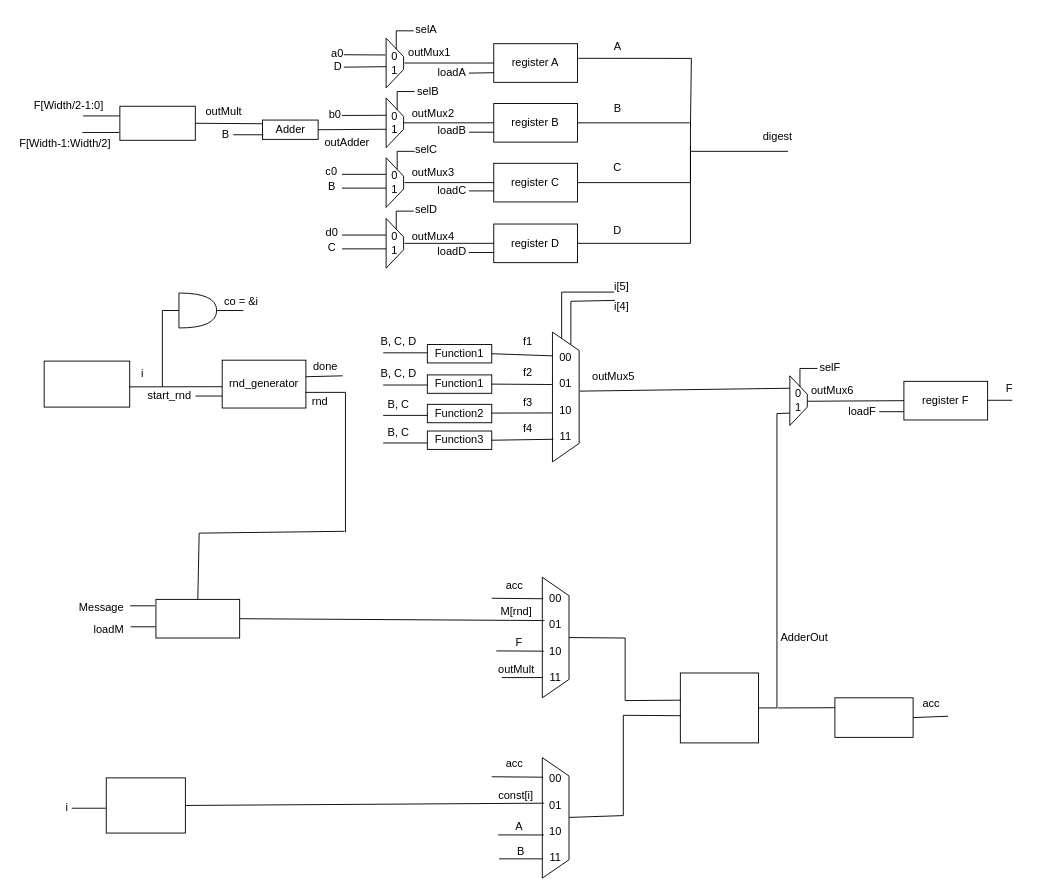
Image size: 1047x894. Some labels were removed from this diagram. The shapes that lost their labels are listed below. From the top down, each one's centre as x and y in pixels, then its label:
At point 157,122: "Multiplier".
At point 86,383: "6bit counter".
At point 197,618: "M File".
At point 719,707: "Adder2opr".
At point 873,717: "register Acc".
At point 145,805: "constant memory".
